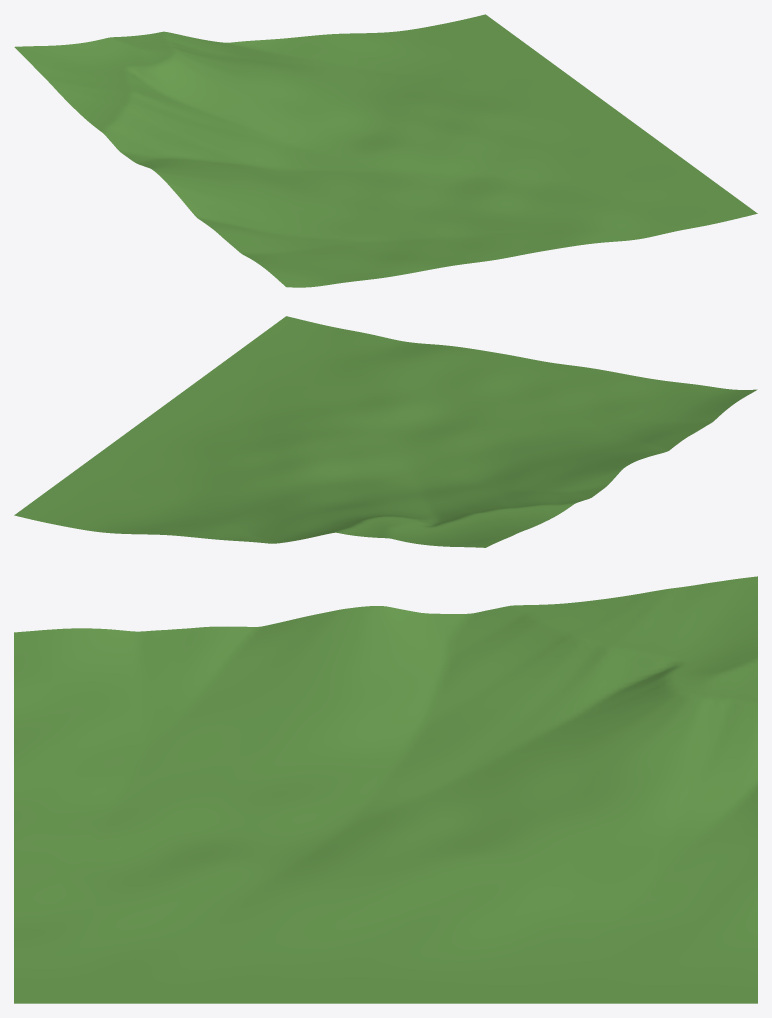
File: SM_Terrain_07_04.fbx
The picture shows the model from 3 angles, top to bottom: view 1: azimuth 30°, elevation 25°; view 2: azimuth 150°, elevation 25°; view 3: azimuth 270°, elevation 25°; orthographic projection. The views are drawn at different scales.
Parts seen in each view (by area): view 1: SM_Terrain_07_04; view 2: SM_Terrain_07_04; view 3: SM_Terrain_07_04.
Boxes of the visible parts, x1,y1,x2,y2 form: SM_Terrain_07_04: [14, 14, 757, 287]; SM_Terrain_07_04: [14, 316, 757, 547]; SM_Terrain_07_04: [14, 576, 757, 1003].
Bounding box in the file's own units: 384 × 64.25 × 384.
